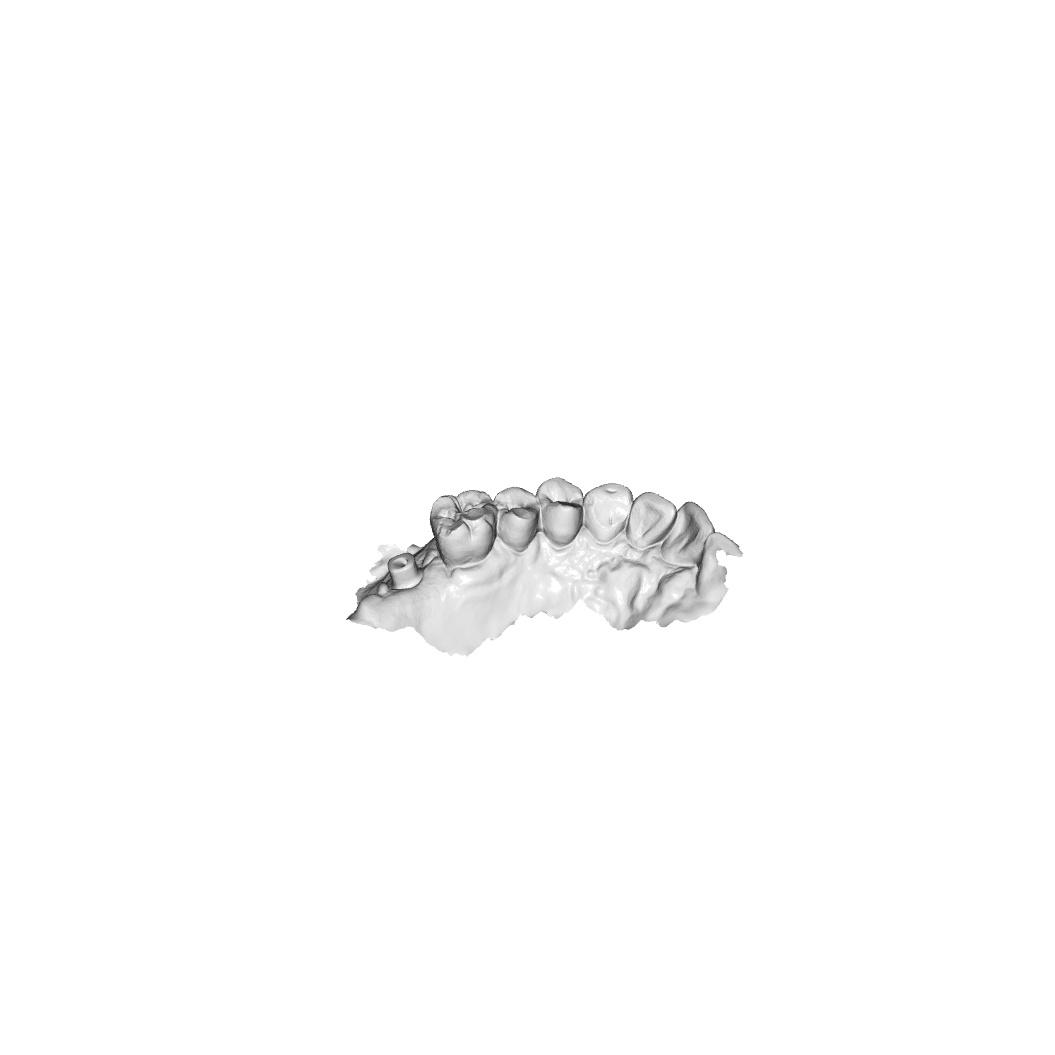canine: (582, 481, 633, 543)
implant: (387, 552, 424, 591)
incisor: (660, 500, 715, 565), (626, 491, 677, 551)
molar: (428, 488, 498, 567)
premolar: (535, 477, 584, 547), (493, 486, 539, 552)
